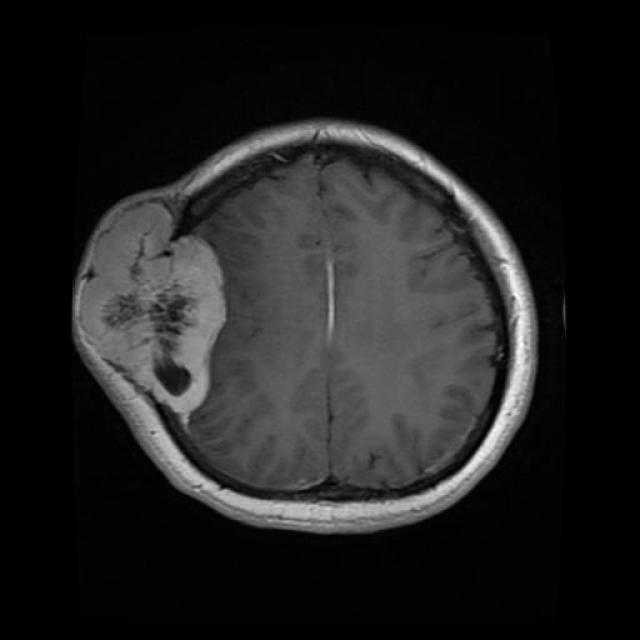meningioma: (82, 231, 226, 397)
